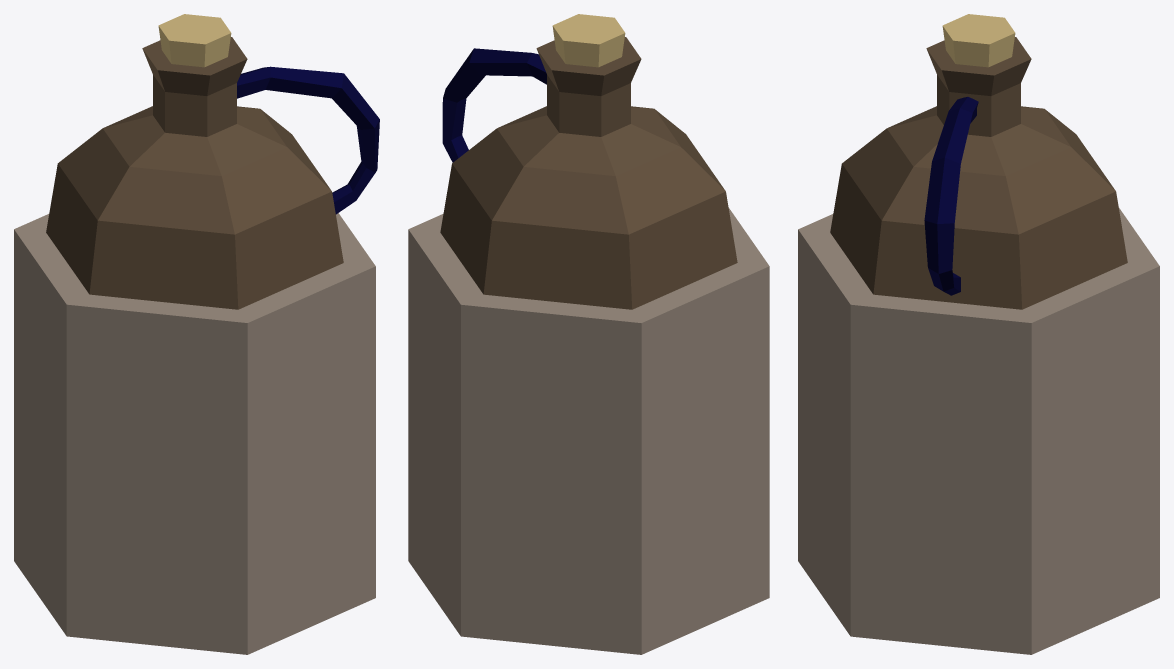
Rendered from EA03_Items_House_Bottle_01a.glb.
The picture shows the model from 3 angles, left to right: view 1: azimuth 30°, elevation 25°; view 2: azimuth 150°, elevation 25°; view 3: azimuth 270°, elevation 25°; orthographic projection.
Visible parts, largest first — view 1: EA03_Items_House_Bottle_01a; view 2: EA03_Items_House_Bottle_01a; view 3: EA03_Items_House_Bottle_01a.
Boxes of the visible parts, bbox=[...] form: EA03_Items_House_Bottle_01a: bbox=[14, 14, 379, 654]; EA03_Items_House_Bottle_01a: bbox=[408, 14, 769, 654]; EA03_Items_House_Bottle_01a: bbox=[798, 14, 1159, 654].
Size of the model in its own units: 0.291 by 0.4804 by 0.2861.
1 material, 1 textured.
